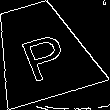P_N: (11, 21, 71, 81)
